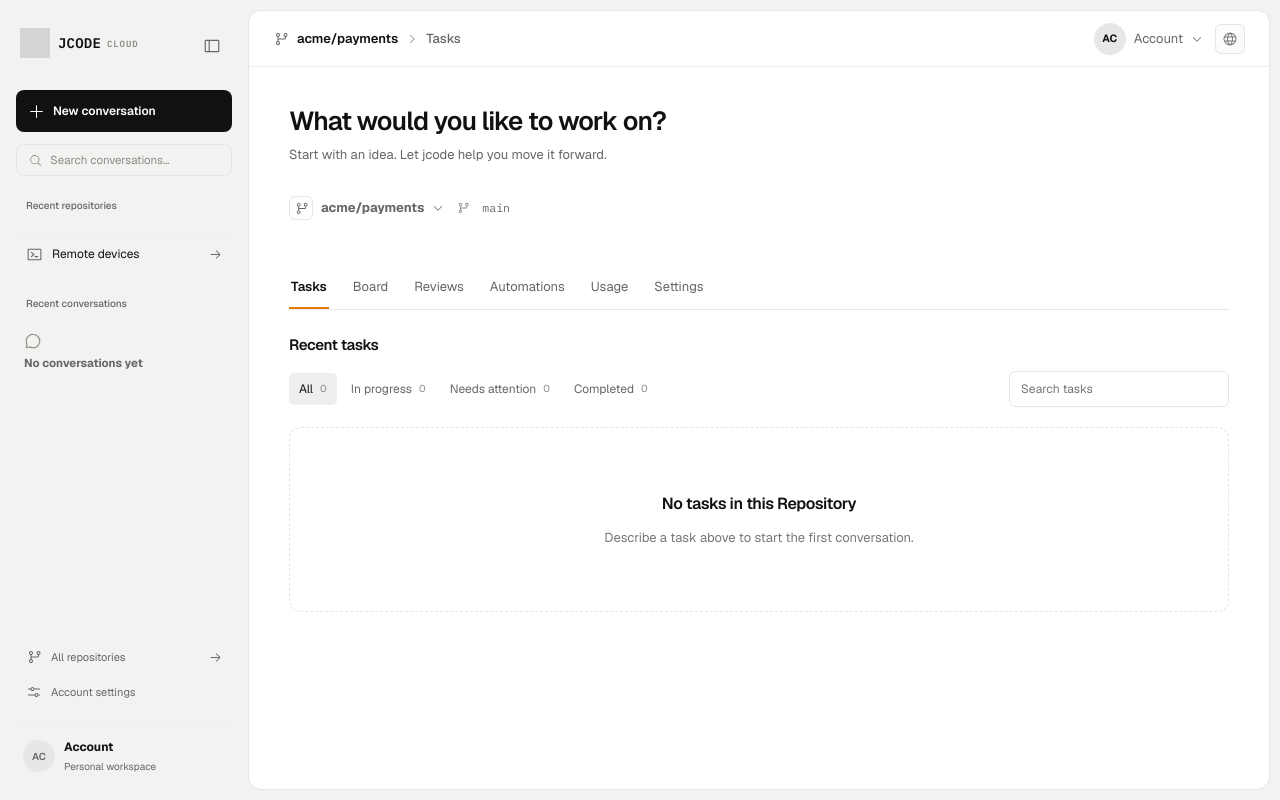
it: WorkHomePage › renders every Repository workspace structure before the first task materializes storage
Expected: the button "acme/payments" is shown, x1=289 y1=188 x2=452 y2=228
Expected: the heading "No tasks in this Repository" is shown, x1=662 y1=492 x2=856 y2=516
Click the tab "Board" at [370, 288], box x1=351 y1=266 x2=390 y2=309
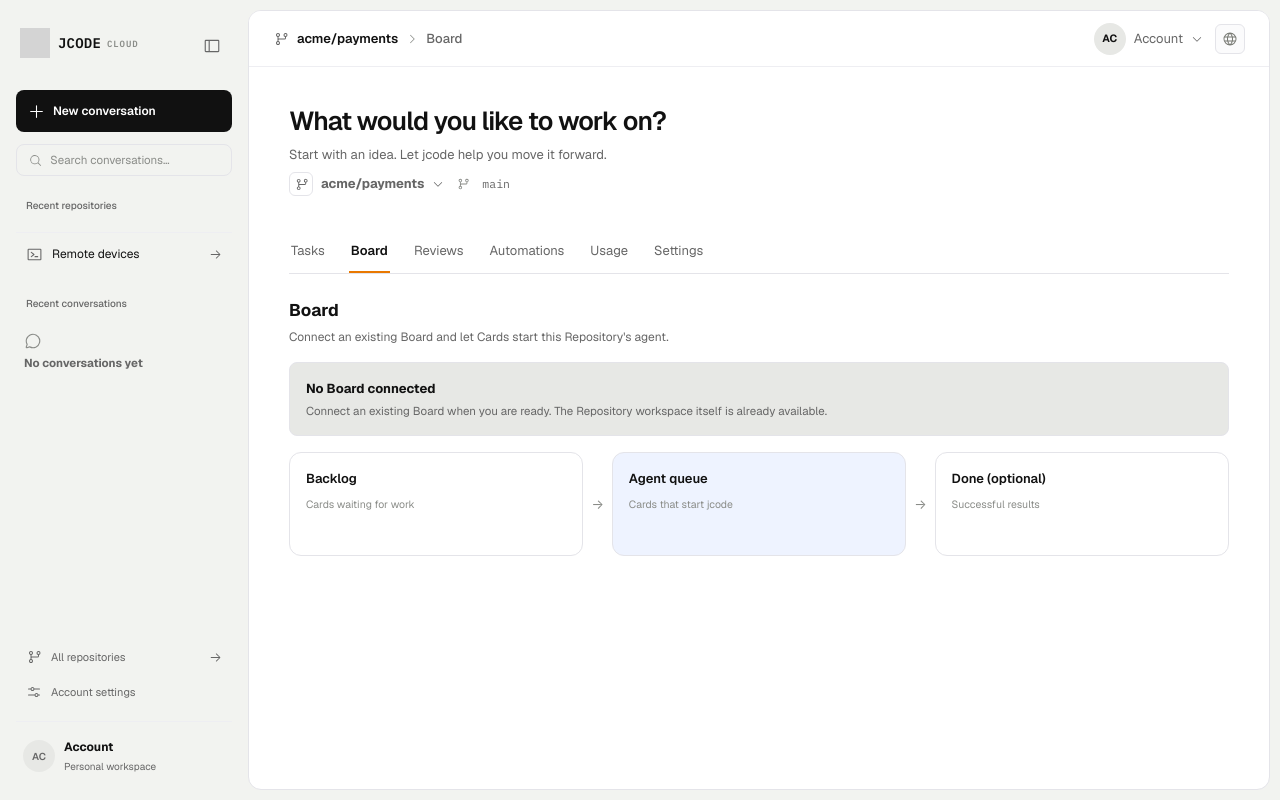
Result: the heading "Board" is shown at x1=289 y1=299 x2=339 y2=321
Result: the text "No Board connected" is shown at x1=306 y1=380 x2=435 y2=396
Result: the text "Agent queue" is shown at x1=629 y1=470 x2=708 y2=487
Click the tab "Reviews" at [439, 252], box x1=412 y1=230 x2=466 y2=273
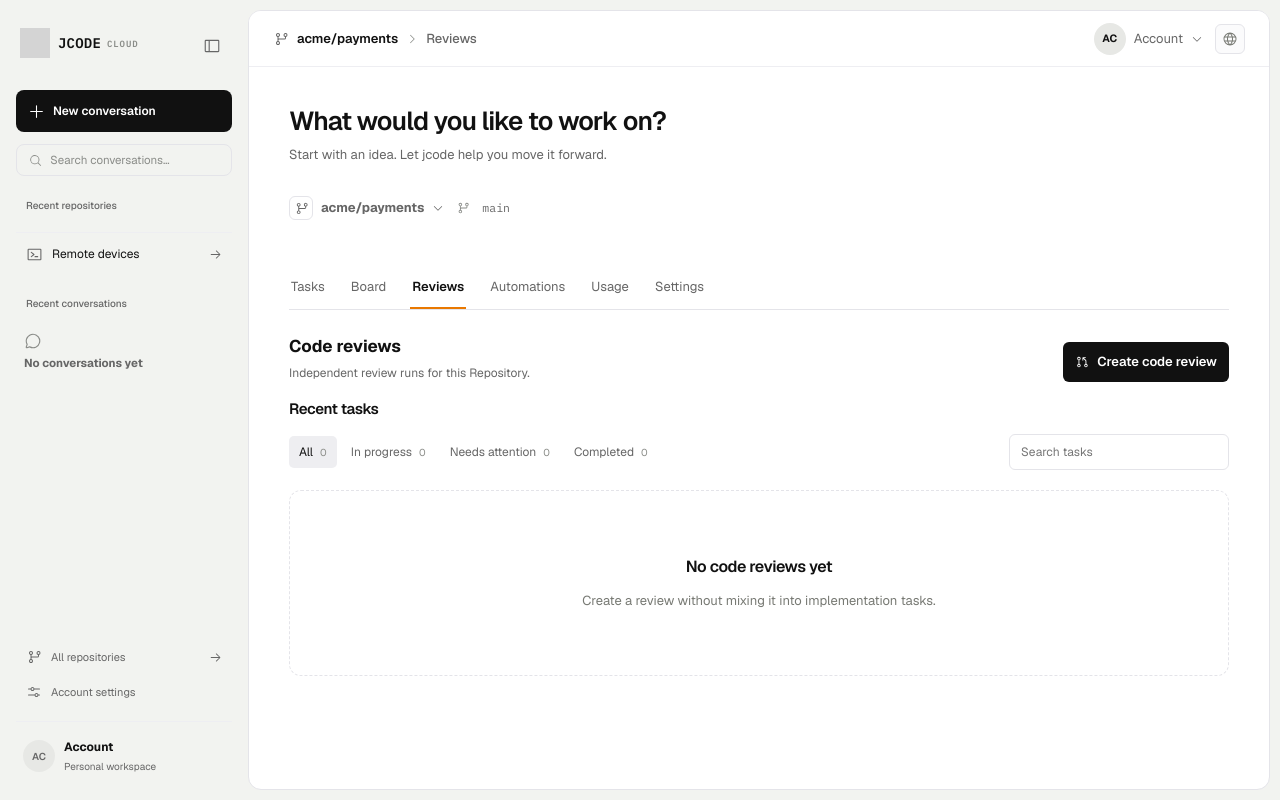
Result: the heading "No code reviews yet" is shown at x1=686 y1=555 x2=832 y2=579
Click the tab "Automations" at [528, 288], box x1=488 y1=266 x2=567 y2=309
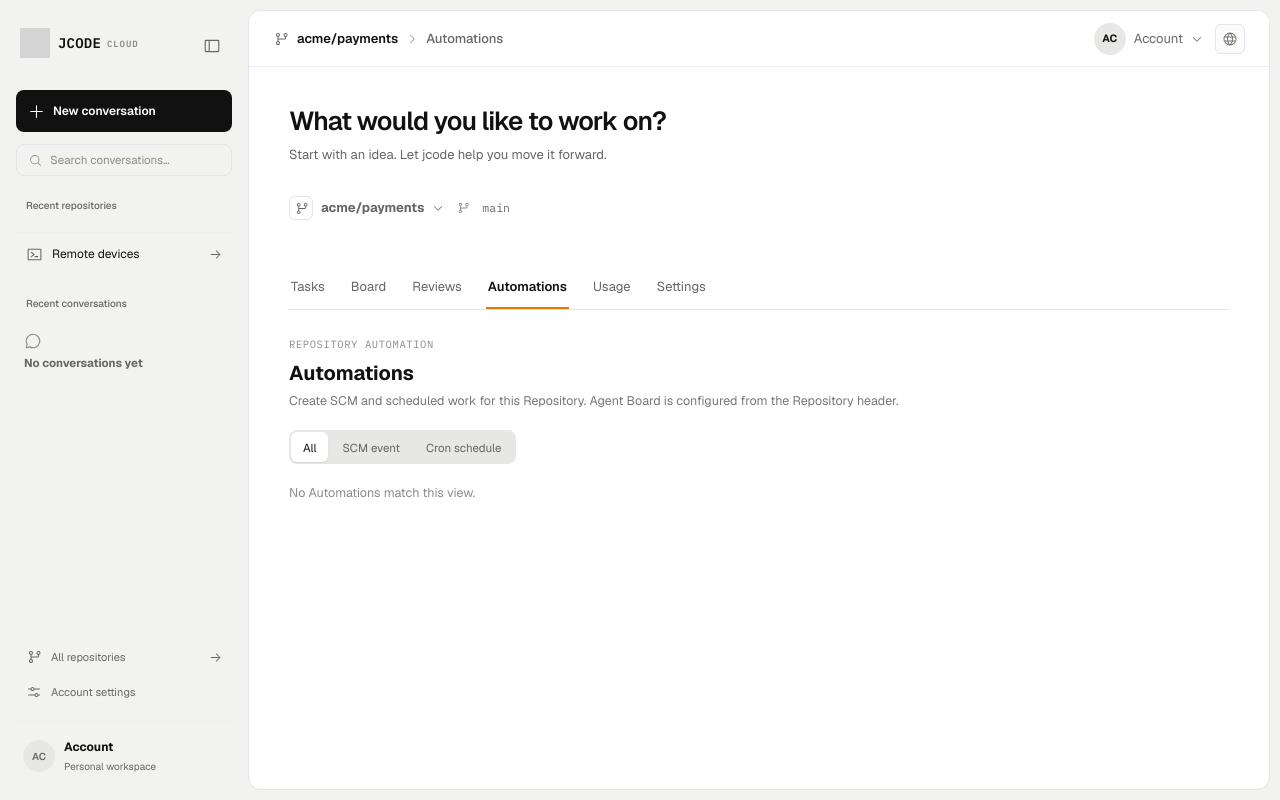
Result: the button "All" is shown at x1=291 y1=432 x2=328 y2=462
Result: the heading "Automations" is shown at x1=289 y1=360 x2=414 y2=386
Result: the text "No Automations match this view." is shown at x1=289 y1=484 x2=475 y2=501
Click the tab "Usage" at [612, 288], box x1=591 y1=266 x2=633 y2=309
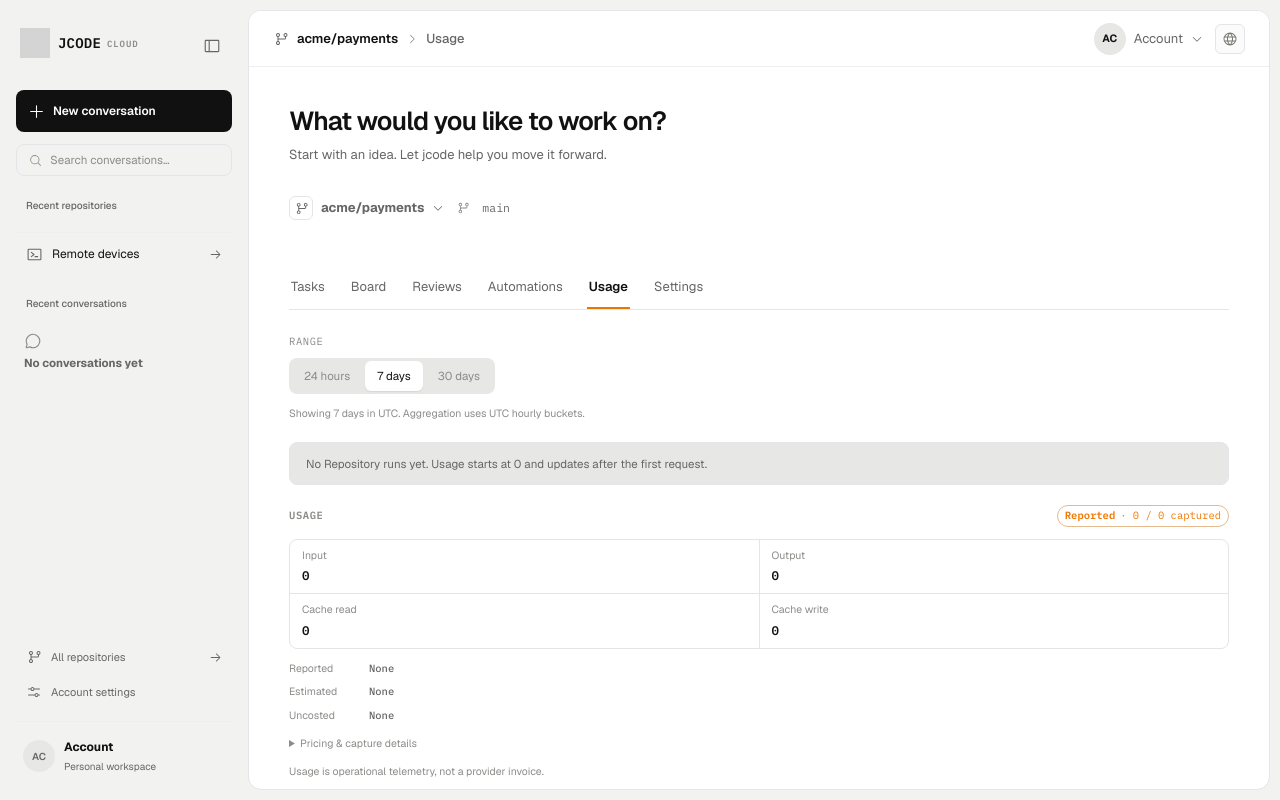
Result: the element with test id "repository-usage" is shown at x1=289 y1=334 x2=1229 y2=789
Result: the text with test id "repository-usage-default" is shown at x1=289 y1=442 x2=1229 y2=485
Click the tab "Settings" at [679, 288], box x1=652 y1=266 x2=705 y2=309
(page scrolled)
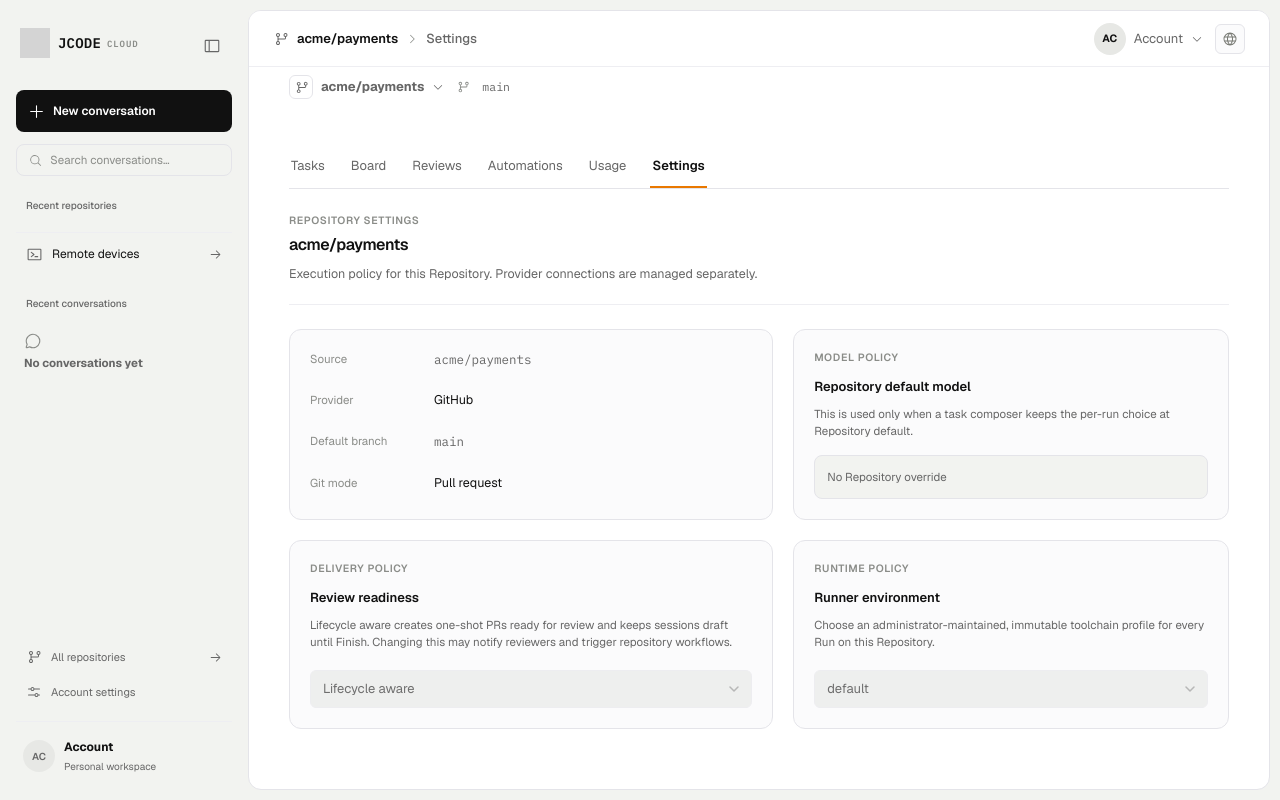
Result: the element with test id "repository-default-settings" is shown at x1=289 y1=213 x2=1229 y2=729
Result: the text "No Repository override" is shown at x1=814 y1=455 x2=1208 y2=499
Result: the text "Lifecycle aware" is shown at x1=323 y1=679 x2=415 y2=699
